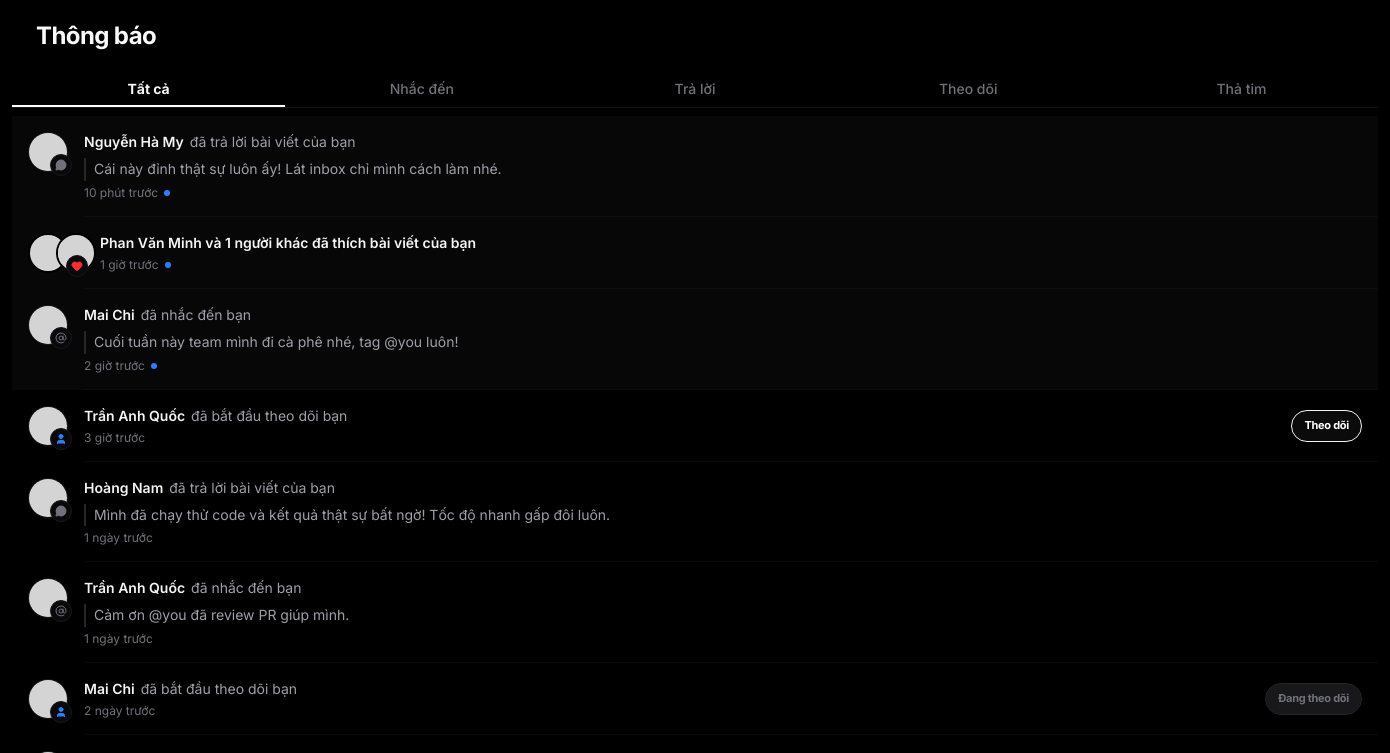
Test: mock mode › the mentions tab lists the mention seed items only
The image size is (1390, 753).
Click the tab "Nhắc đến": (422, 90) top-left (285, 73), bottom-right (558, 107)
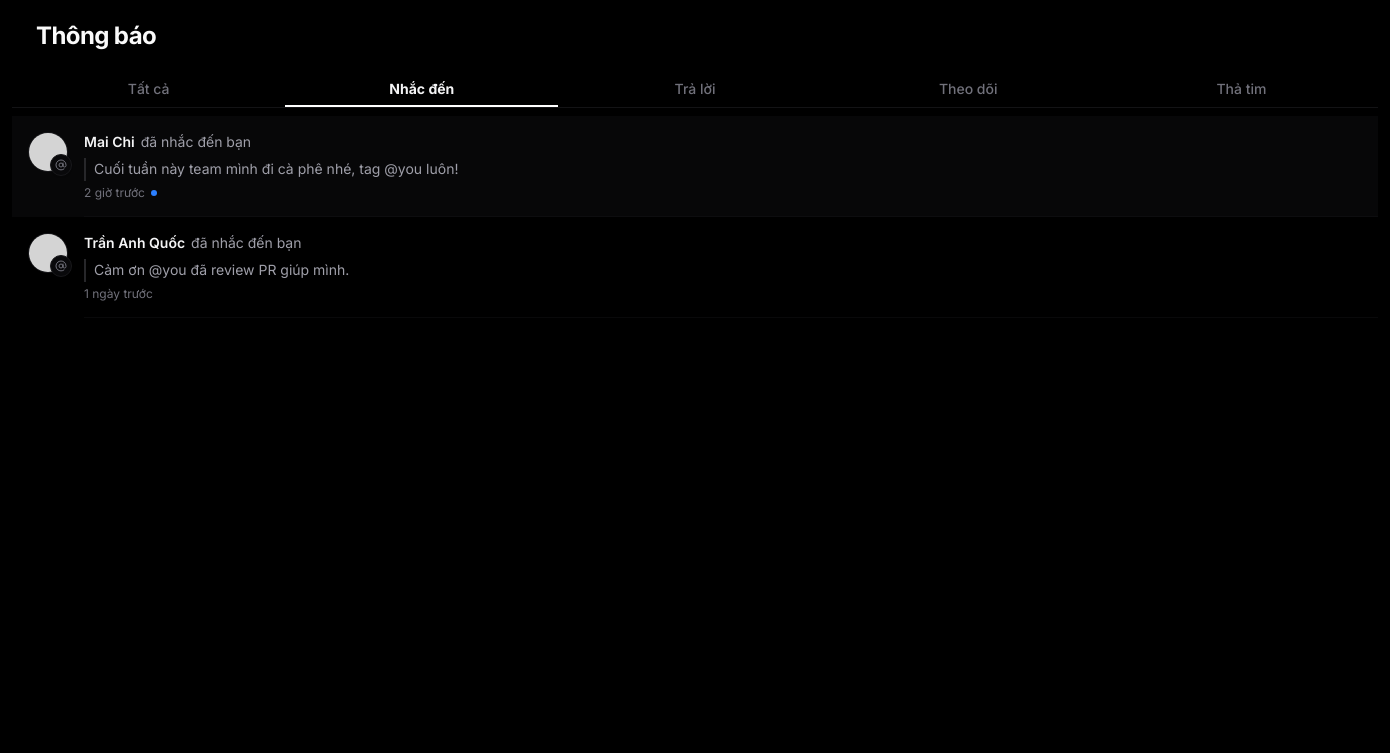
Now the text "đã nhắc đến bạn" is shown 2 times, box top-left (141, 133), bottom-right (251, 150); top-left (191, 234), bottom-right (302, 251)
Now the link "đã thích bài viết của bạn" is gone
